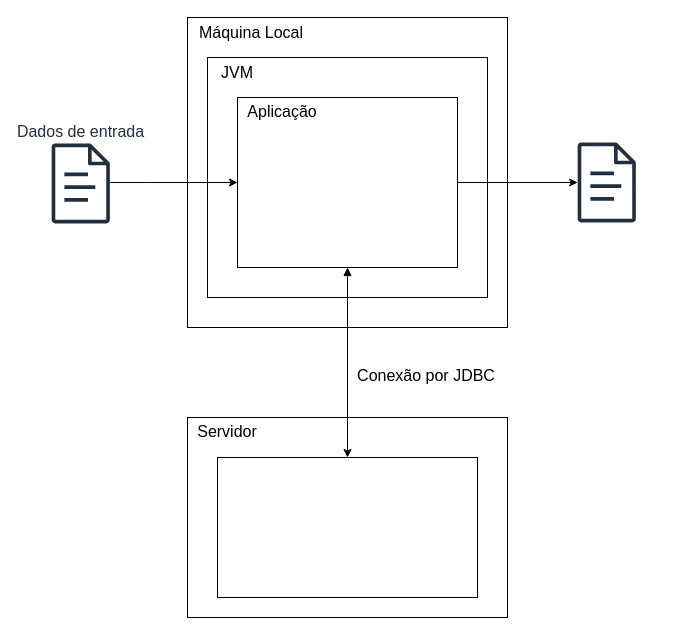
This 679x635 diagram has some shape labels left out. The box of each missing label's shape, as (x1, y1, x2, y2) in pixels:
Base de dados PostgreSQL: (216, 456, 478, 598)
Dados de saida: (577, 142, 636, 222)
